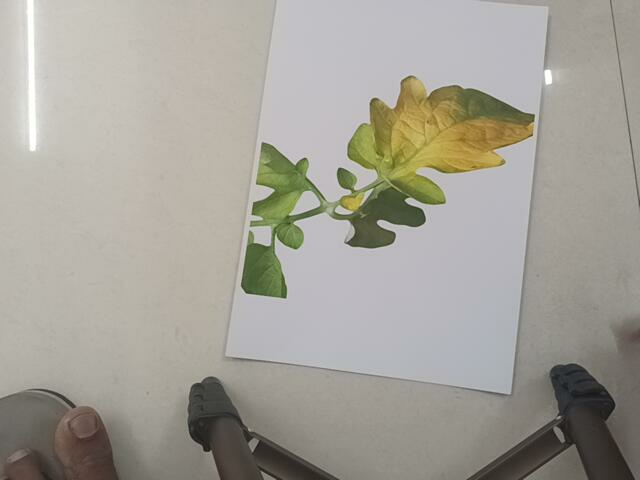Tomamto_Yellow_Disease: (261, 80, 526, 290)
